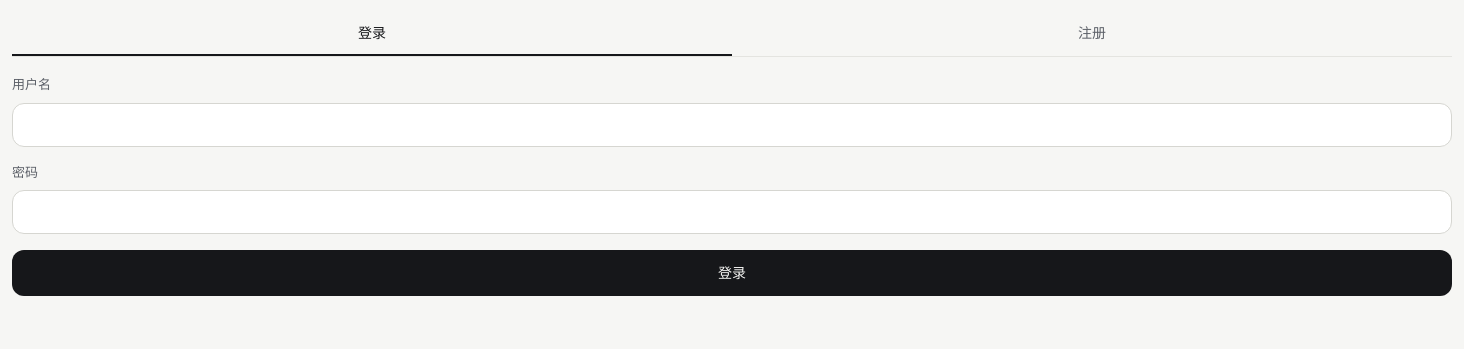
Test case: shared login/register form › validates ab / password length before fetching
This screenshot has width=1464, height=349.
Type "ab" into the field labelled "用户名". click: [732, 124]
box: left=12, top=102, right=1452, bottom=146
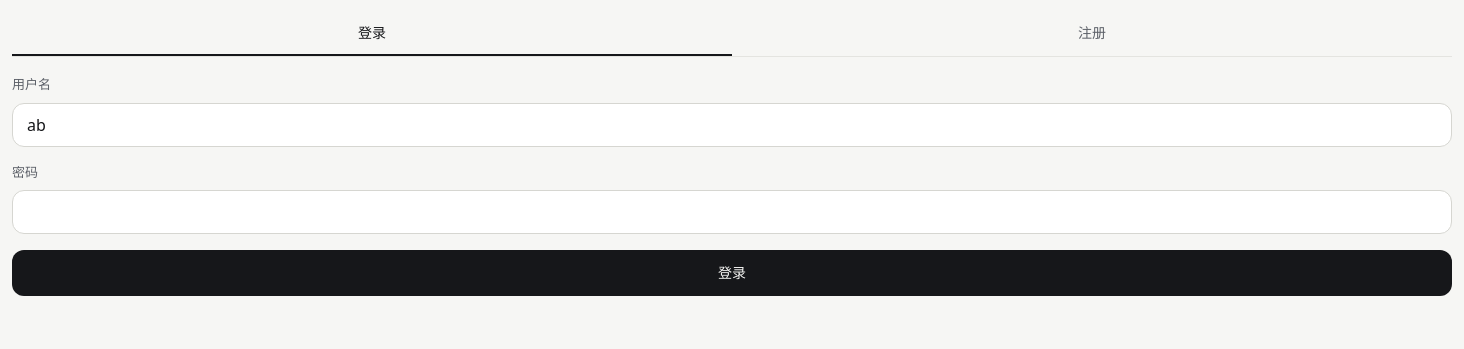
Type "12345678" into the password field labelled "密码". click: [732, 212]
box: left=12, top=190, right=1452, bottom=234
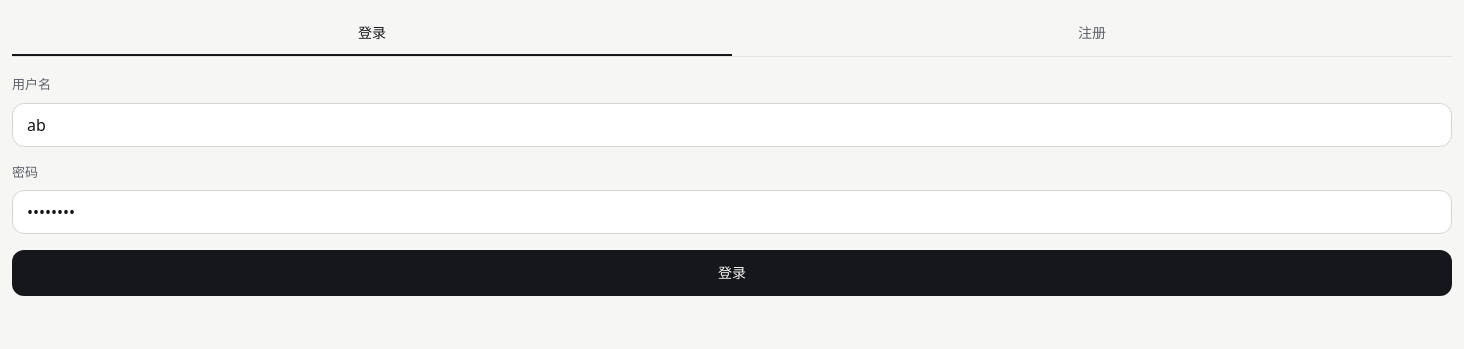
Click the button "登录". click: [732, 273]
box: left=12, top=250, right=1452, bottom=296
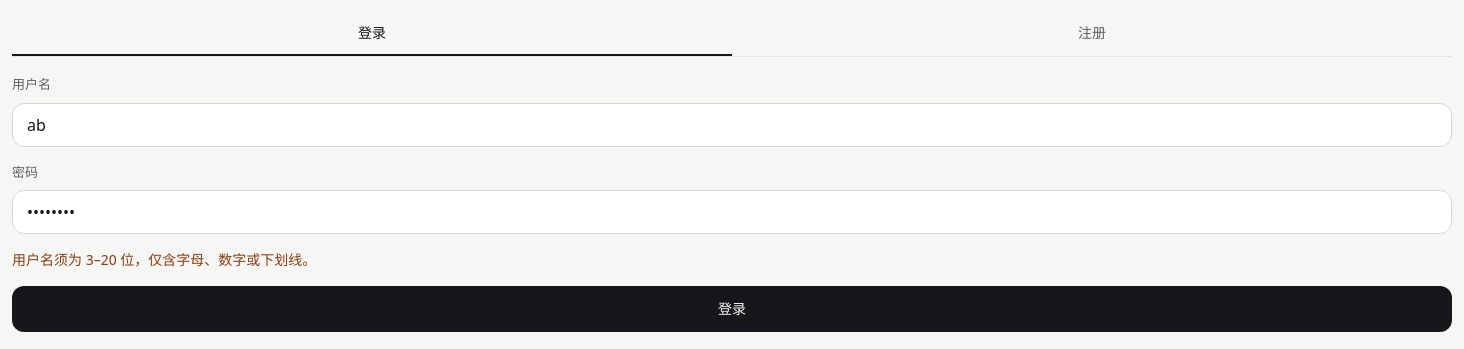
Expected: the message shows "用户名", left=12, top=250, right=316, bottom=269
